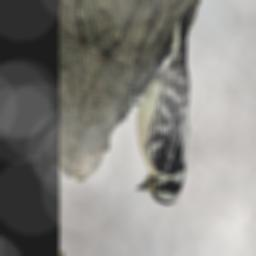Woodpecker: (103, 0, 221, 219)
